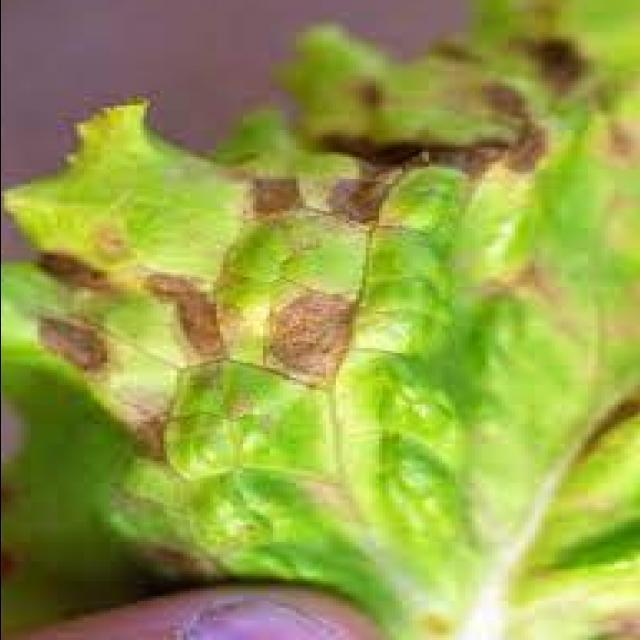Septoria_Blight_on_lettuce: (36, 97, 591, 564)
